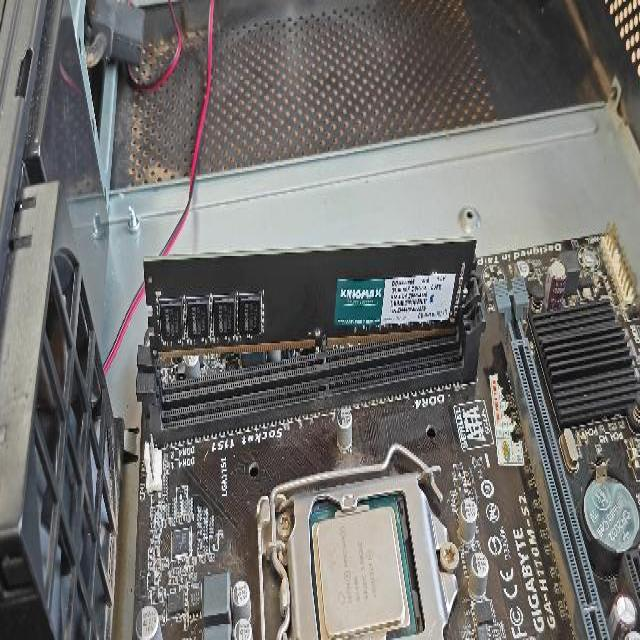CPU: (300, 490, 421, 640)
Mainboard: (110, 222, 638, 640)
RAM: (138, 240, 484, 354)
